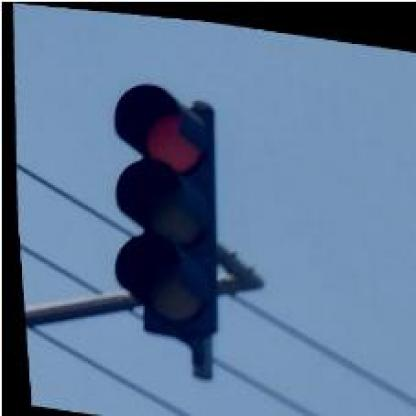red: (97, 76, 229, 338)
